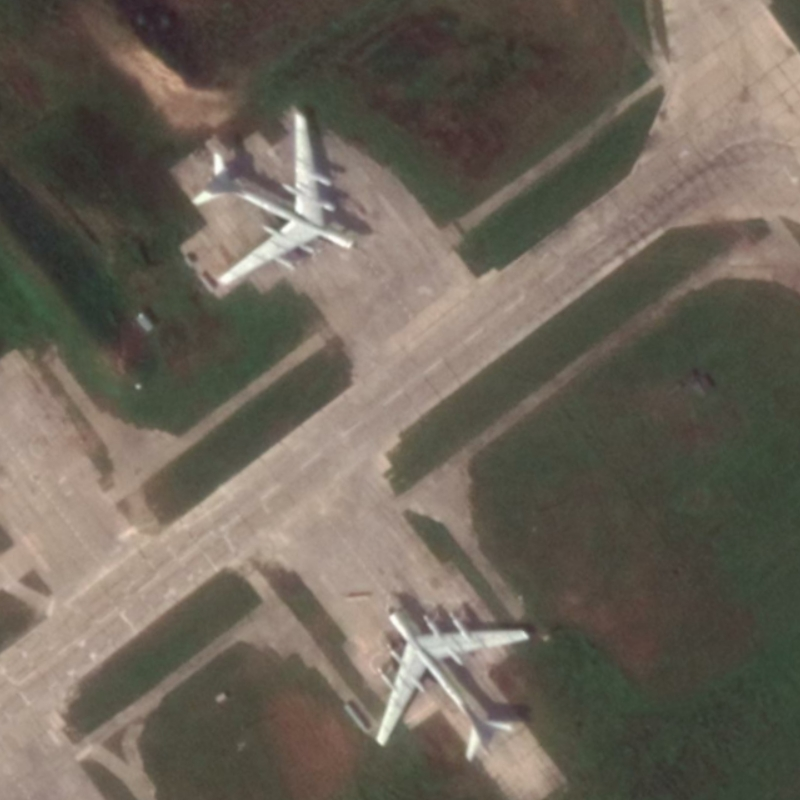A17: (189, 111, 361, 289), (371, 603, 534, 764)
